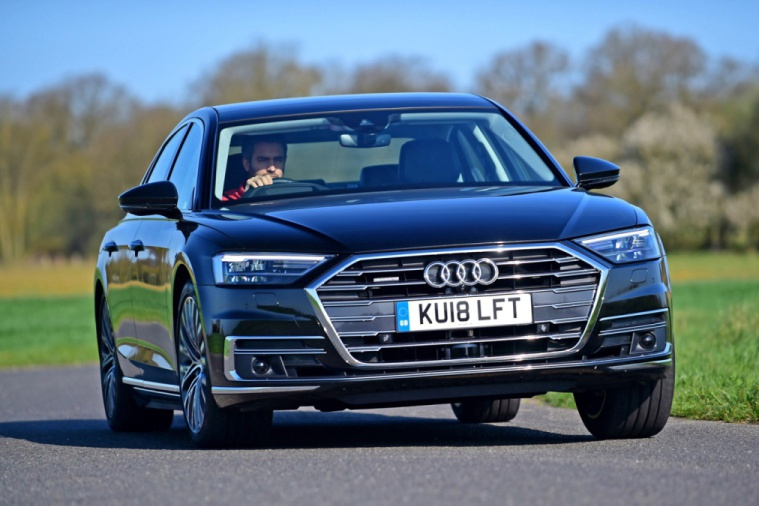audi: (416, 255, 504, 291)
